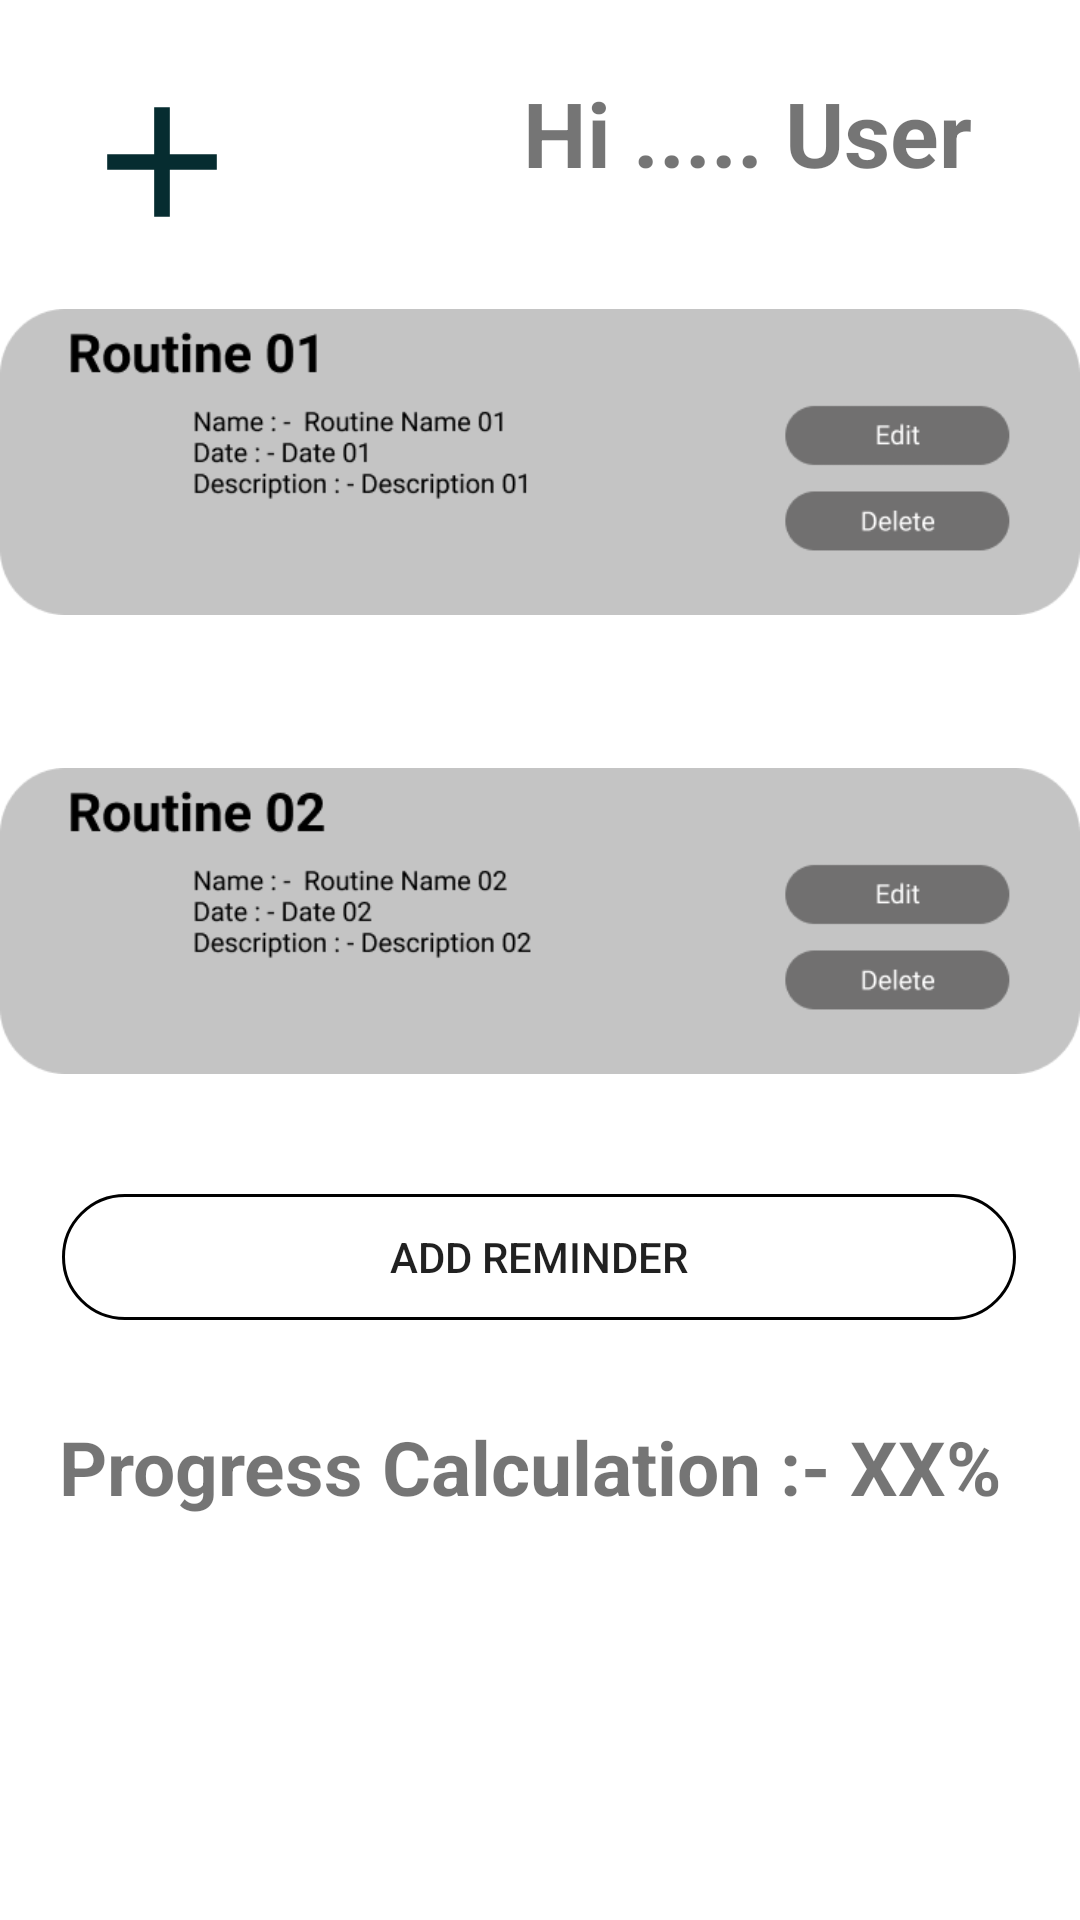

Point at icon controls on the screen. Image size 1080*1920, points as (x=x, y=y).
add: (x=162, y=162)
